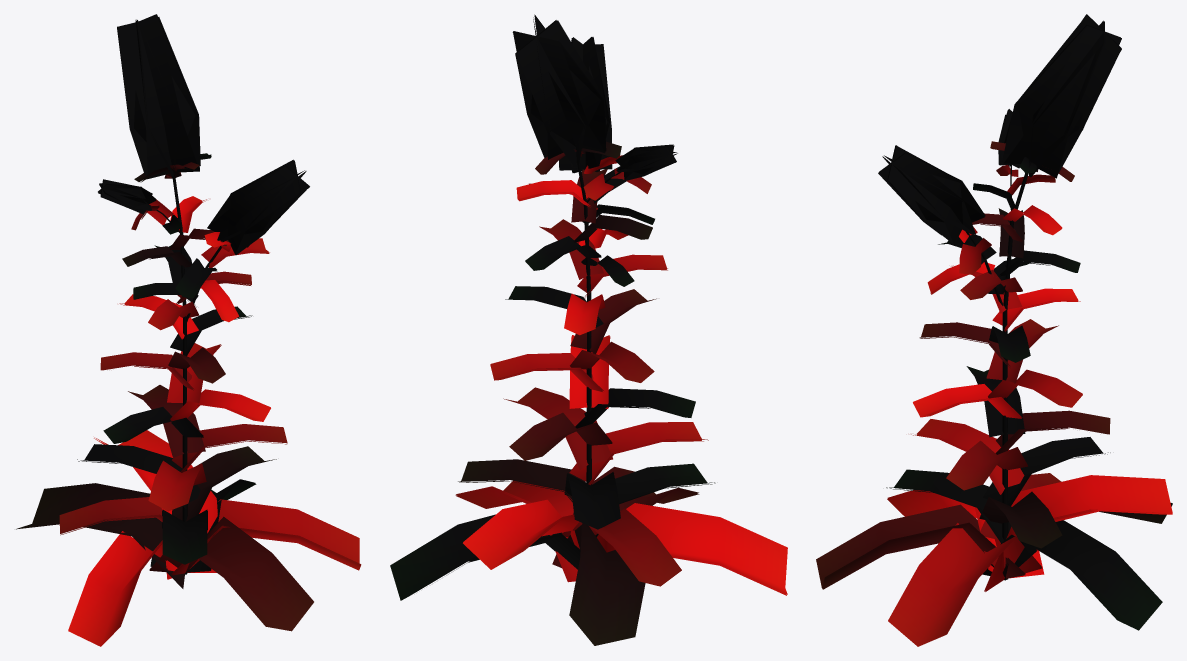
Rendered from Flower05_AFS_high.FBX.
The picture shows the model from 3 angles, left to right: view 1: azimuth 30°, elevation 25°; view 2: azimuth 150°, elevation 25°; view 3: azimuth 270°, elevation 25°; orthographic projection. The views are drawn at different scales.
Visible parts, largest first — view 1: Flower05_AFS_high; view 2: Flower05_AFS_high; view 3: Flower05_AFS_high.
Part boxes in pixels (x1=…): Flower05_AFS_high: x1=16, y1=14, x2=361, y2=646; Flower05_AFS_high: x1=390, y1=14, x2=787, y2=645; Flower05_AFS_high: x1=816, y1=14, x2=1172, y2=646.
Size of the model in its own units: 0.5449 by 0.9544 by 0.5423.
